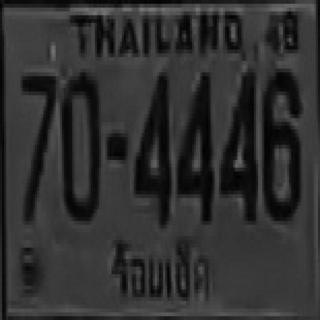N00: (60, 68, 99, 217)
N04: (175, 68, 213, 221), (219, 68, 256, 221), (132, 70, 169, 223)
N06: (260, 65, 299, 217)
N07: (20, 70, 55, 219)
P54: (104, 231, 214, 304)
